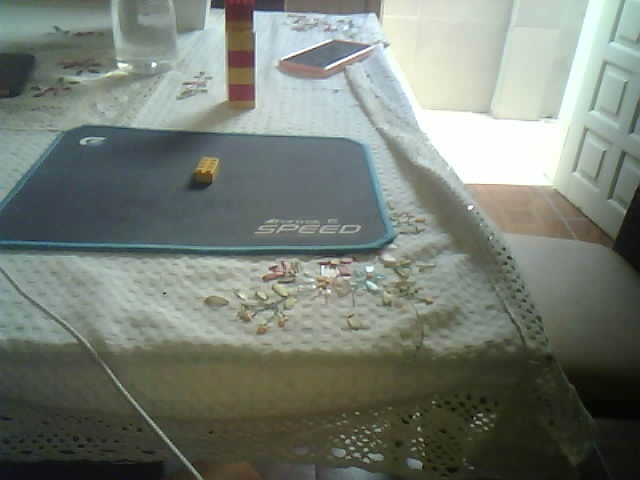lego: (225, 1, 256, 111), (191, 156, 221, 184)
